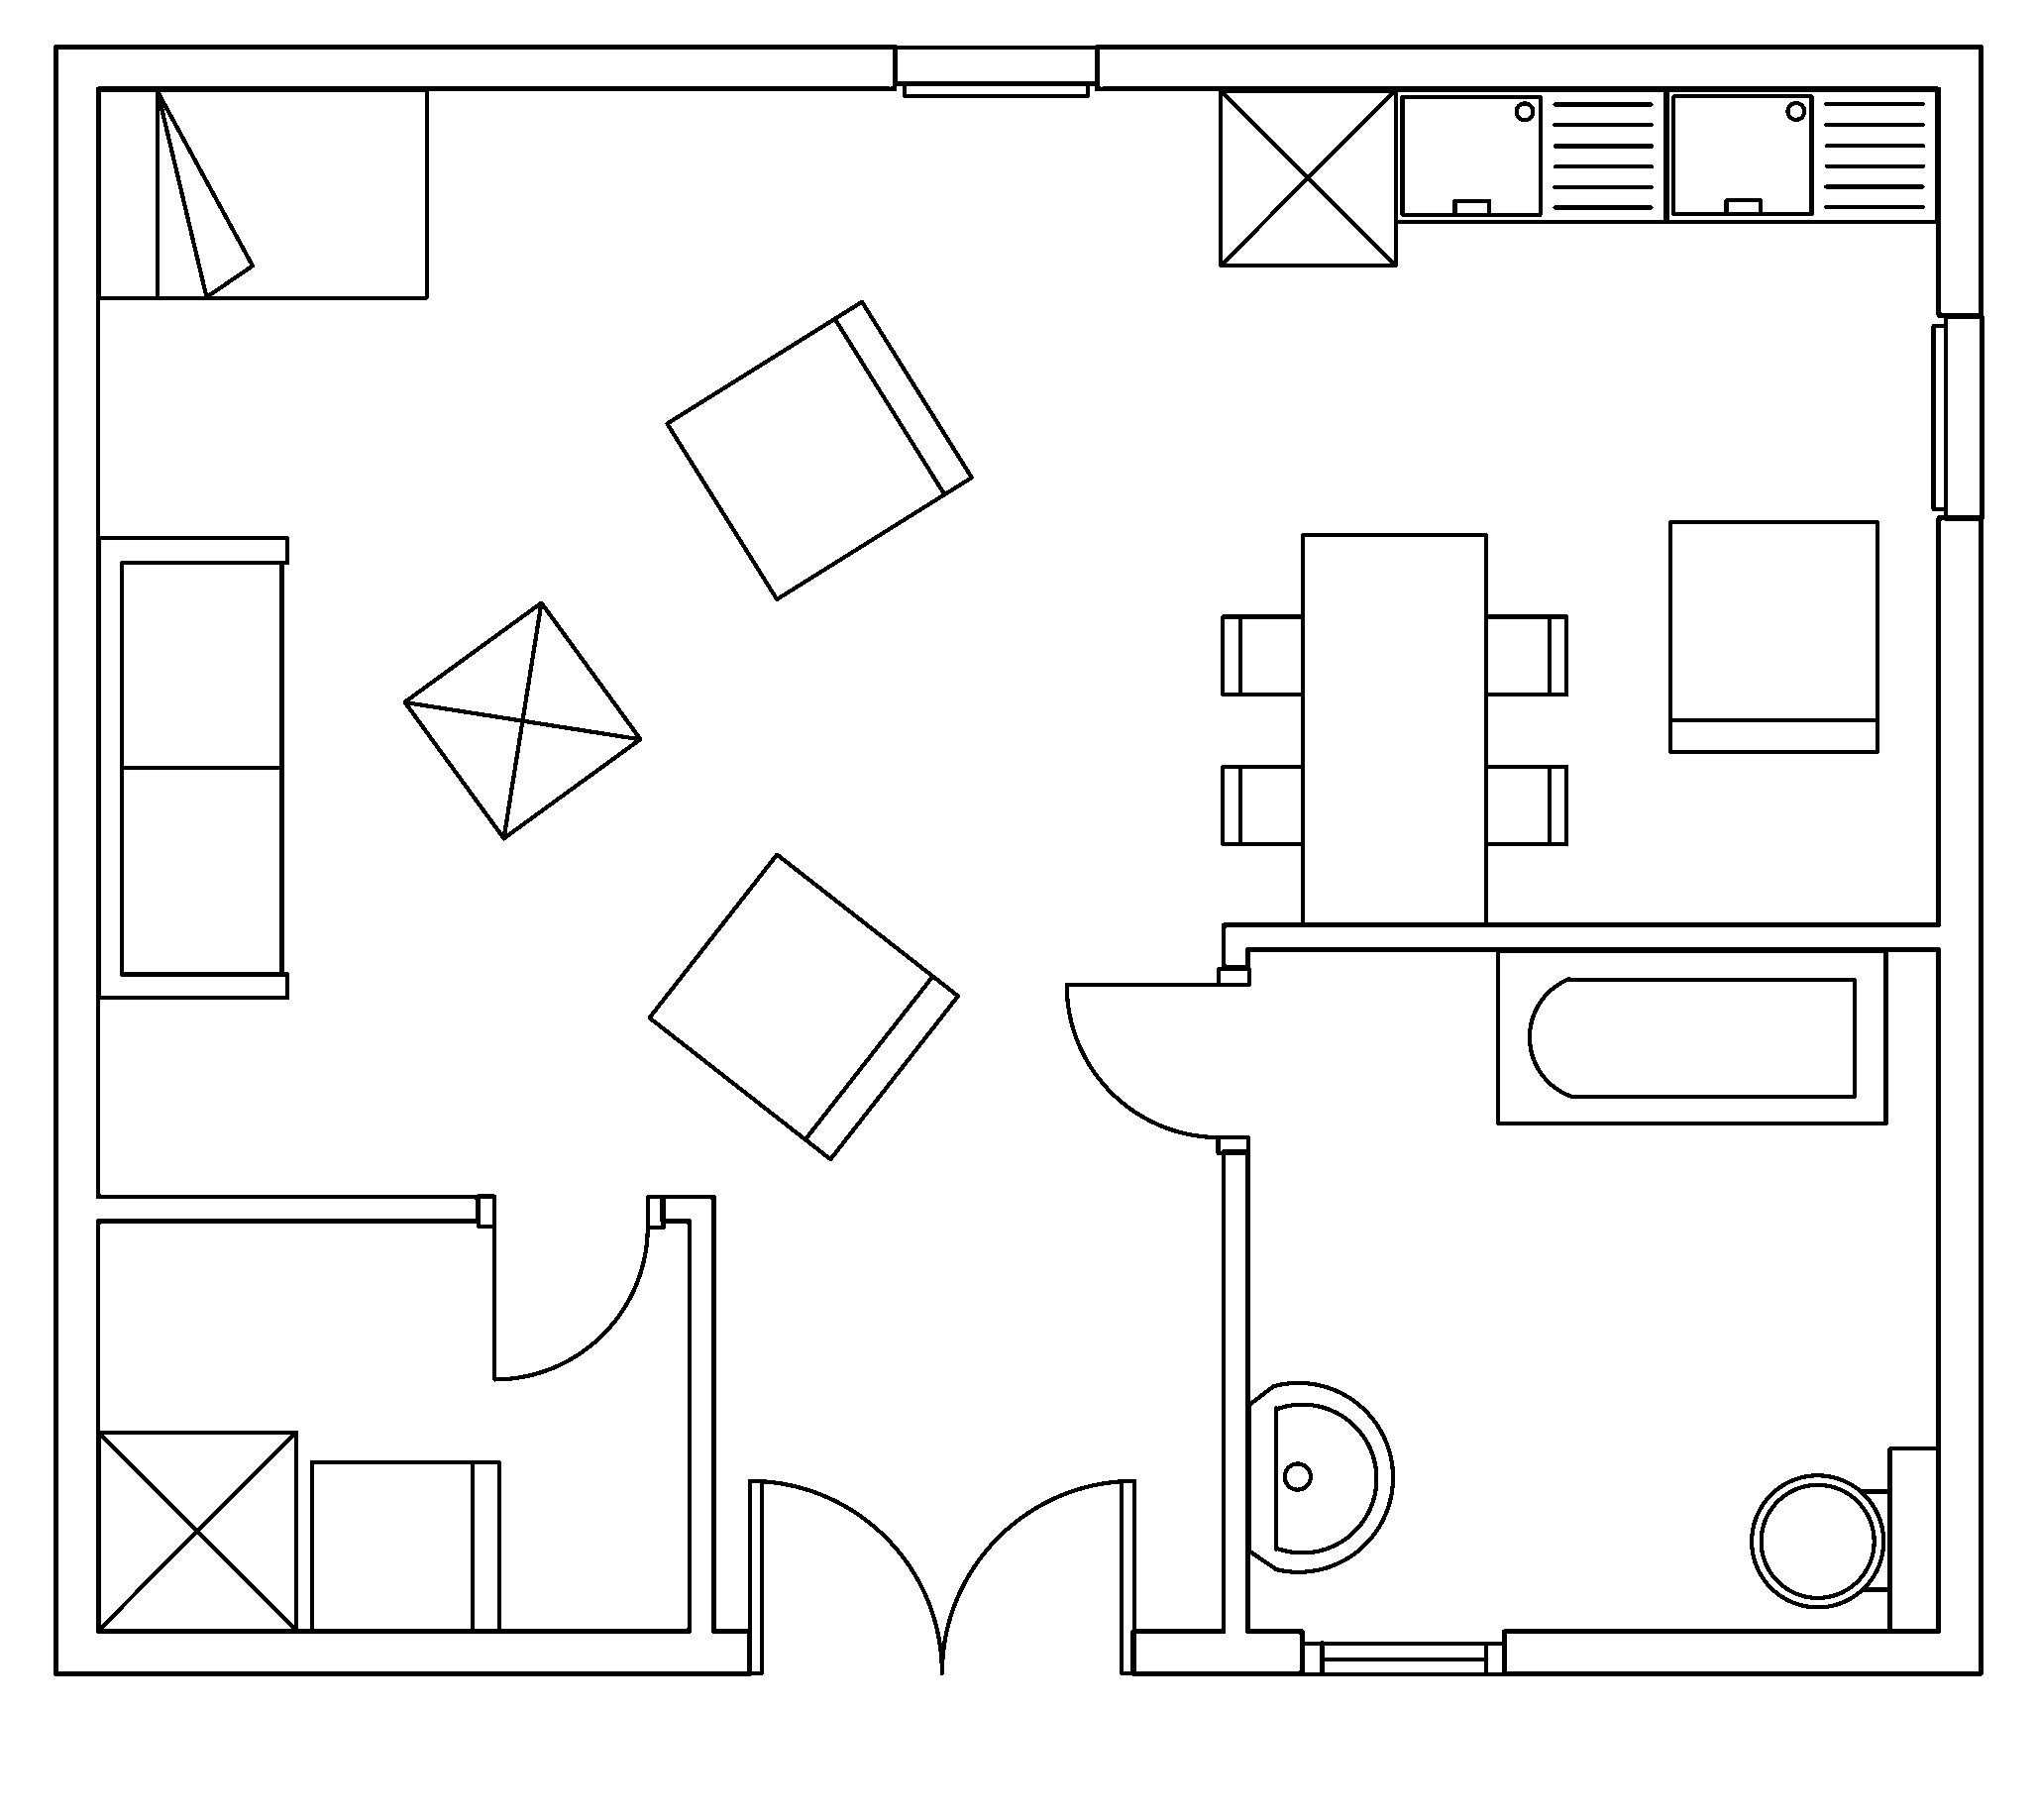bed: (95, 86, 428, 300)
coffee_table: (402, 599, 643, 841), (95, 1428, 299, 1632), (1217, 86, 1398, 267)
dining_table: (1219, 531, 1568, 926)
large_sink: (1749, 1444, 1940, 1632)
large_sofa: (95, 534, 290, 1000)
sink: (1663, 86, 1940, 223), (1393, 86, 1668, 223)
small_sink: (1245, 1381, 1394, 1572)
small_sofa: (644, 850, 961, 1161), (662, 299, 975, 601), (1666, 518, 1879, 754), (307, 1458, 500, 1632)
tub: (1494, 947, 1888, 1126)
